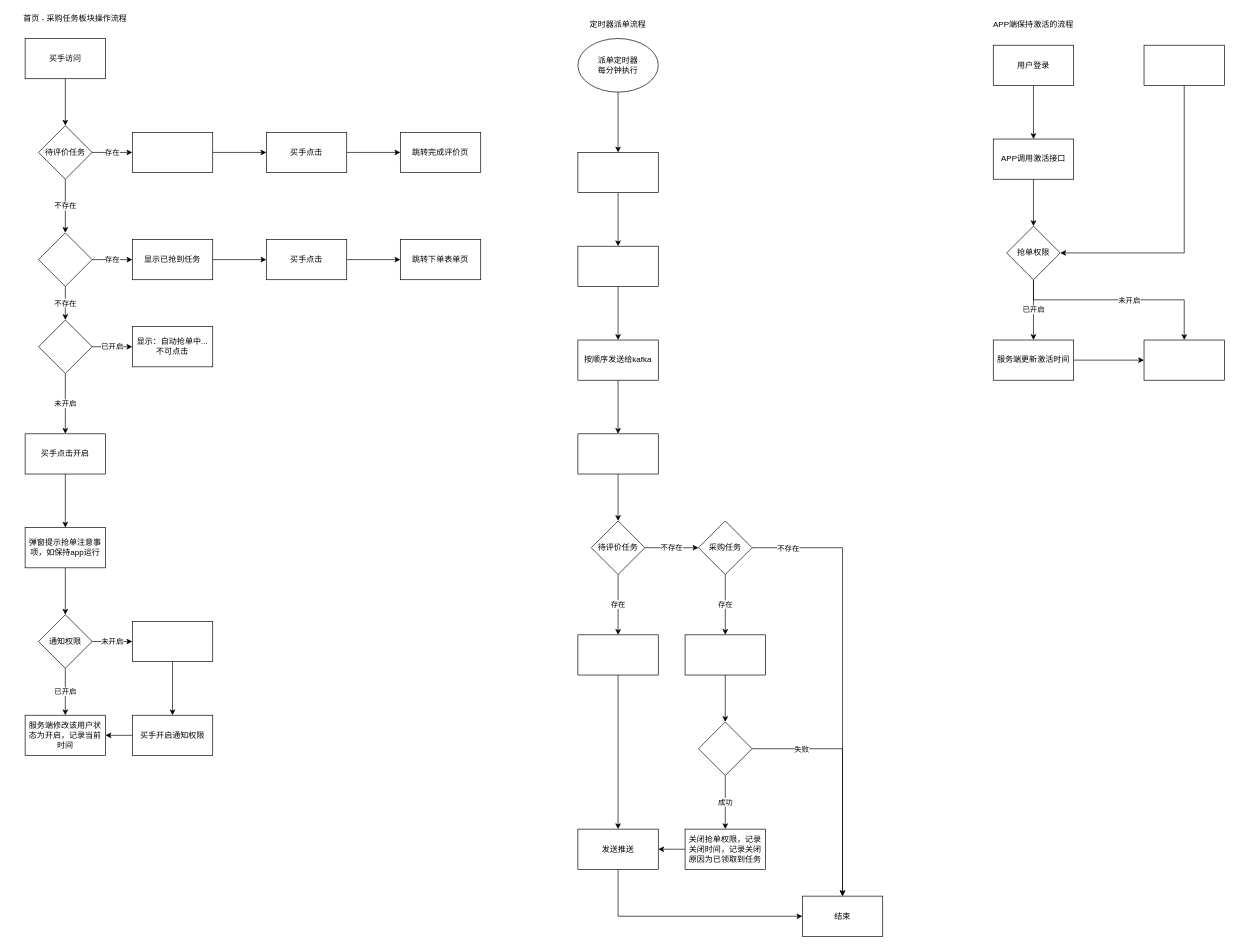
Some shapes in this 1236 by 948 pixel diagram are drawn without their labels. Each missing label, with the box of its shape:
APP调用激活接口 每5分钟执行: (1143, 45, 1224, 85)
kafka调用专属任务方法: (577, 433, 658, 474)
关闭五分钟内未重新激活的用户抢单权限，记录关闭时间，记录关闭原因为未激活: (577, 152, 658, 193)
关闭抢单权限，记录关闭时间，记录关闭原因为待评价: (577, 634, 658, 675)
弹窗提示开启通知权限: (132, 621, 213, 662)
待操作采购任务: (38, 232, 92, 286)
按开启时间升序查询出已开启抢单权限的用户: (577, 246, 658, 286)
显示需完成待评价任务: (132, 132, 213, 173)
自动抢单: (38, 319, 92, 374)
自动调用领取任务接口领取任务: (684, 634, 765, 675)
返回: (1143, 339, 1224, 380)
领取任务: (698, 721, 752, 776)
